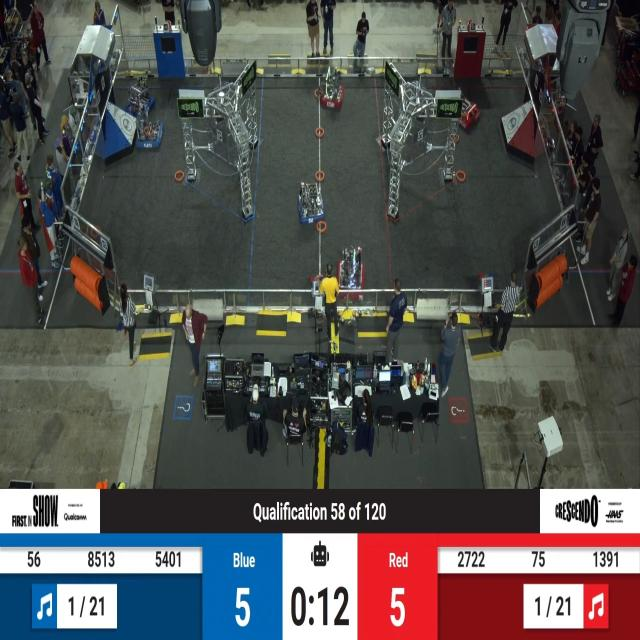Note: (88, 218, 102, 245), (452, 168, 469, 187), (311, 164, 327, 184), (315, 216, 328, 239), (312, 124, 327, 142), (172, 166, 186, 184), (446, 129, 461, 144), (313, 85, 322, 100)
Robot: (128, 102, 167, 164), (450, 74, 482, 140), (120, 69, 155, 123), (295, 175, 329, 228), (335, 242, 365, 301), (316, 64, 346, 119)
